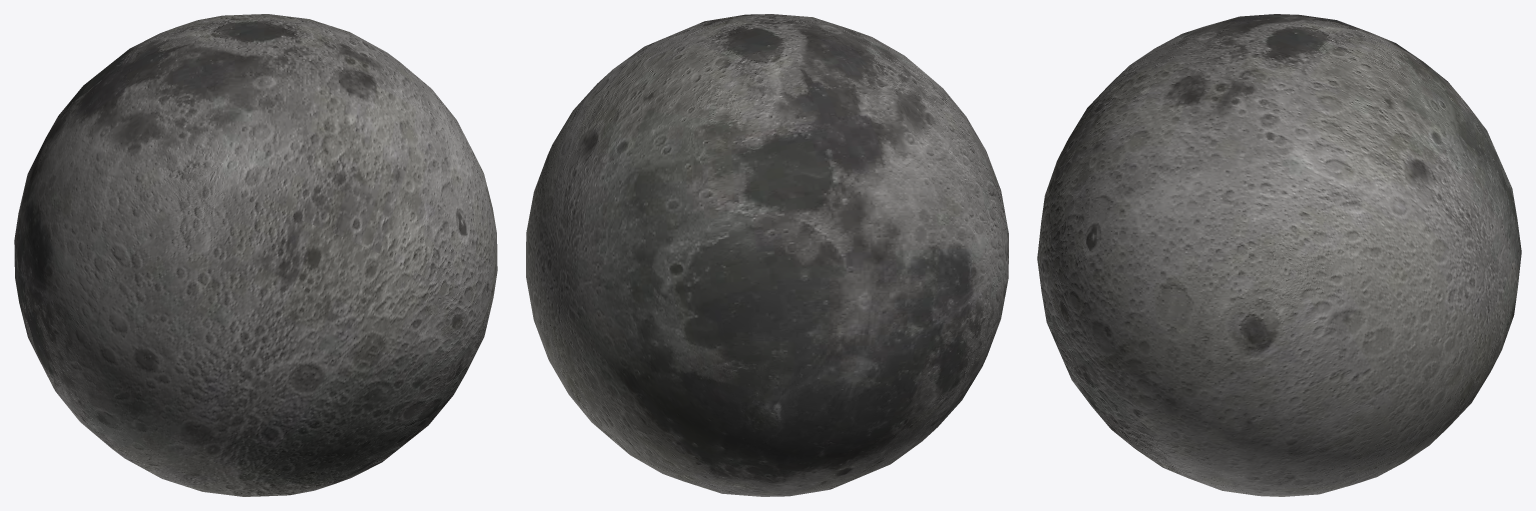
File: moon2.glb
The picture shows the model from 3 angles, left to right: view 1: azimuth 30°, elevation 25°; view 2: azimuth 150°, elevation 25°; view 3: azimuth 270°, elevation 25°; orthographic projection.
Parts seen in each view (by area): view 1: Moon_Moon_0; view 2: Moon_Moon_0; view 3: Moon_Moon_0.
Part boxes in pixels (<box>): Moon_Moon_0: <box>14,14,497,496</box>; Moon_Moon_0: <box>526,14,1008,496</box>; Moon_Moon_0: <box>1037,14,1521,496</box>.
Bounding box in the file's own units: 3.48 × 3.48 × 3.49.
Materials: 1 (1 with a texture image).
